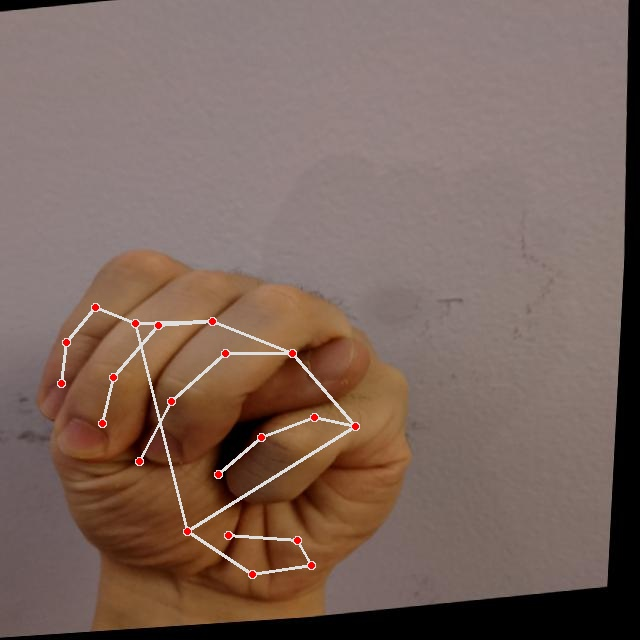M: (18, 217, 442, 637)
